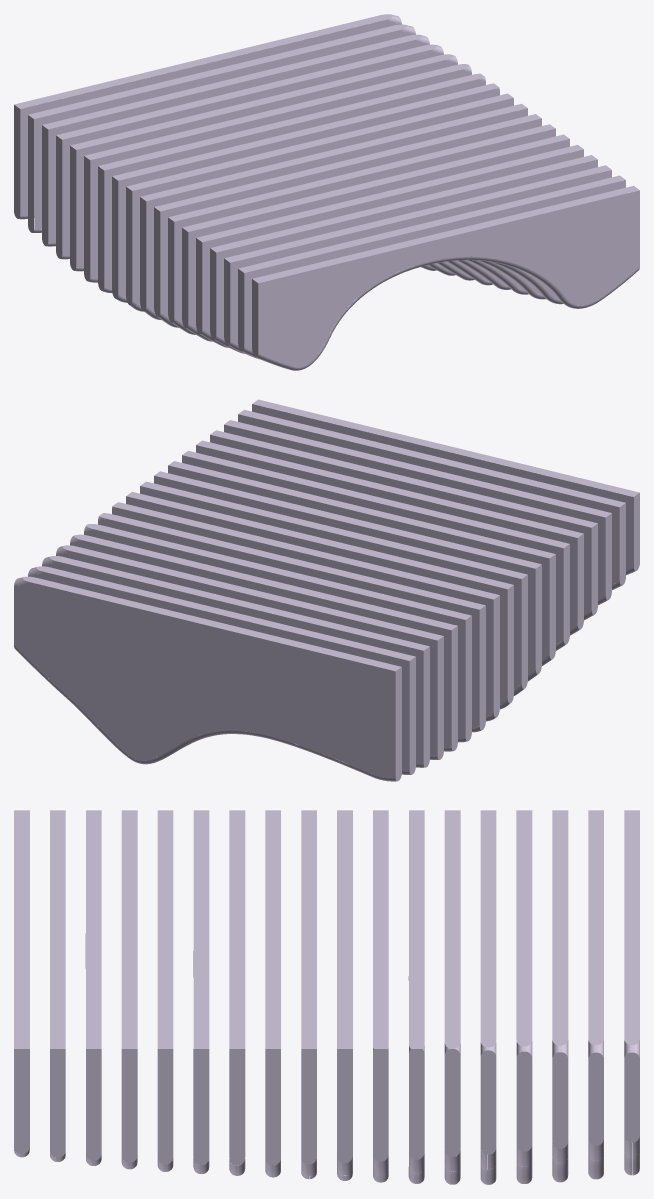
File: techo_bacterias.glb
The picture shows the model from 3 angles, top to bottom: view 1: azimuth 30°, elevation 25°; view 2: azimuth 150°, elevation 25°; view 3: azimuth 270°, elevation 25°; orthographic projection. The views are drawn at different scales.
Size of the model in its own units: 0.0236 by 0.00942 by 0.0262.
